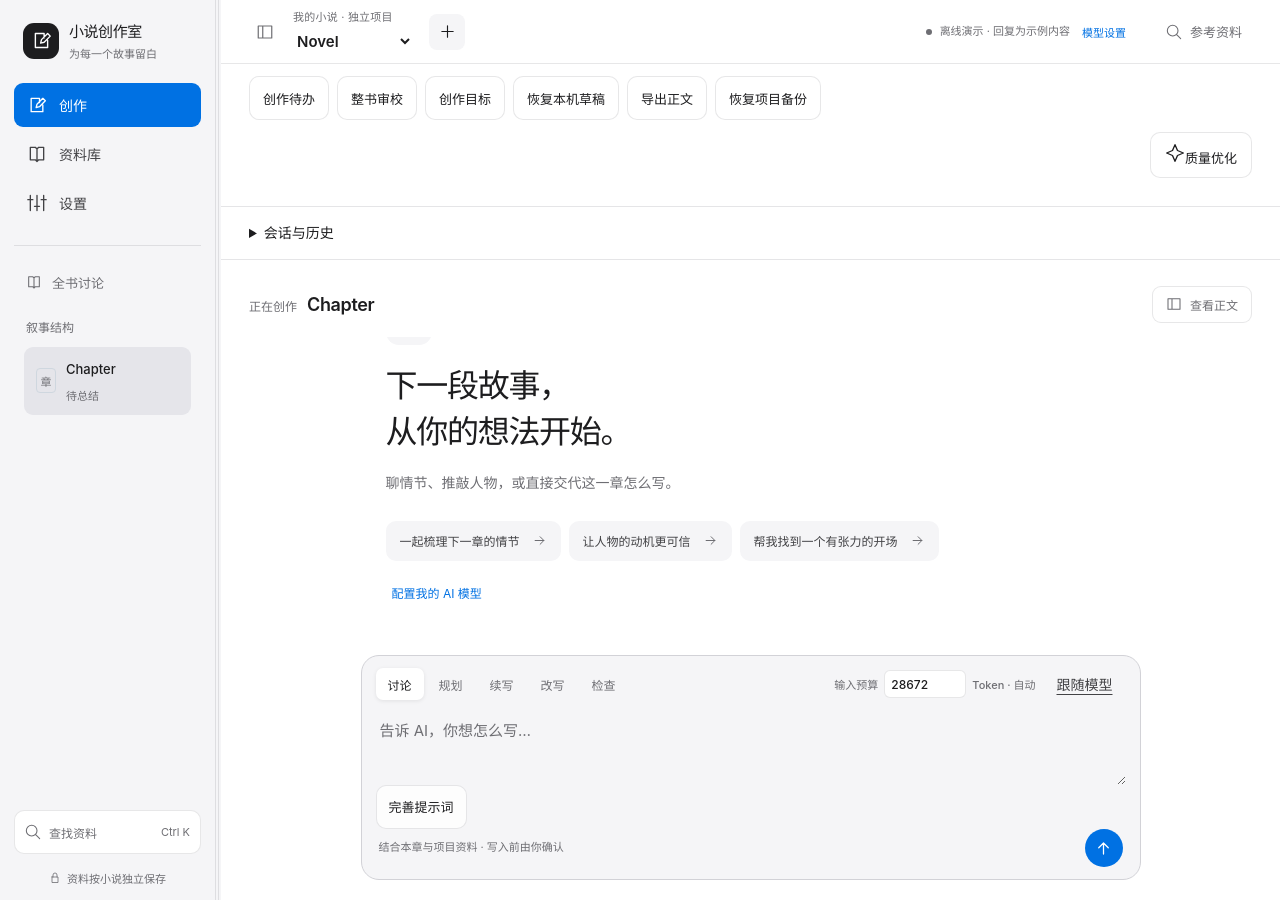
Test: only offers local repair once summary publication already exists
This screenshot has width=1280, height=900.
(page scrolled)
Check: the text box named "给 AI 的消息" is shown, box [376,702,1126,785]
Click the button "查看正文". click: (1202, 304)
box: [1152,286,1252,323]
(page scrolled)
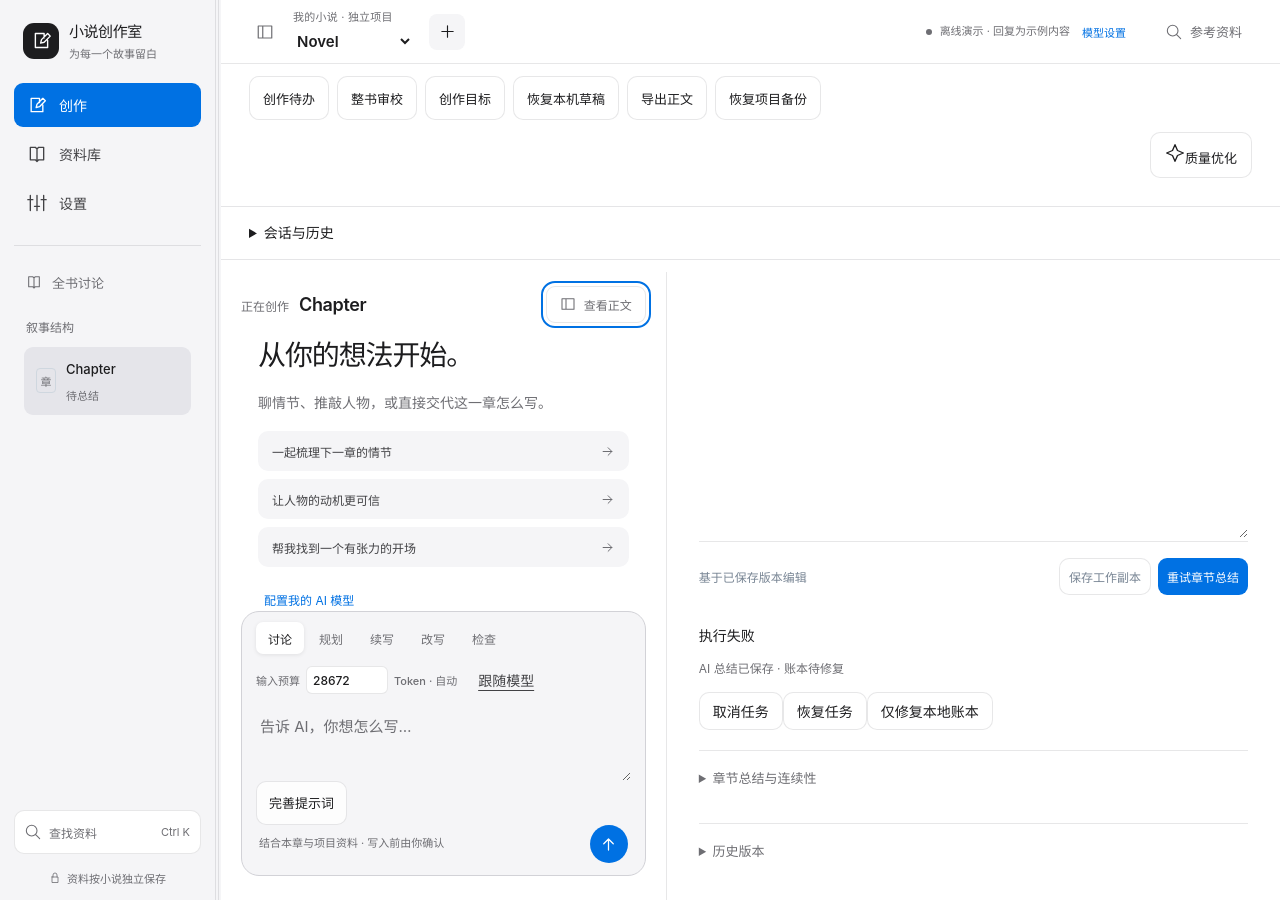
Check: the button "仅修复本地账本" is shown, box [867,692,993,730]
